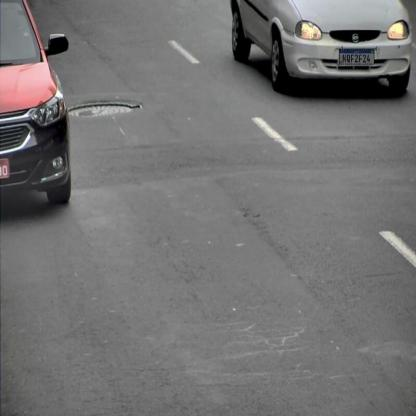PlacaM: (339, 49, 374, 65)
